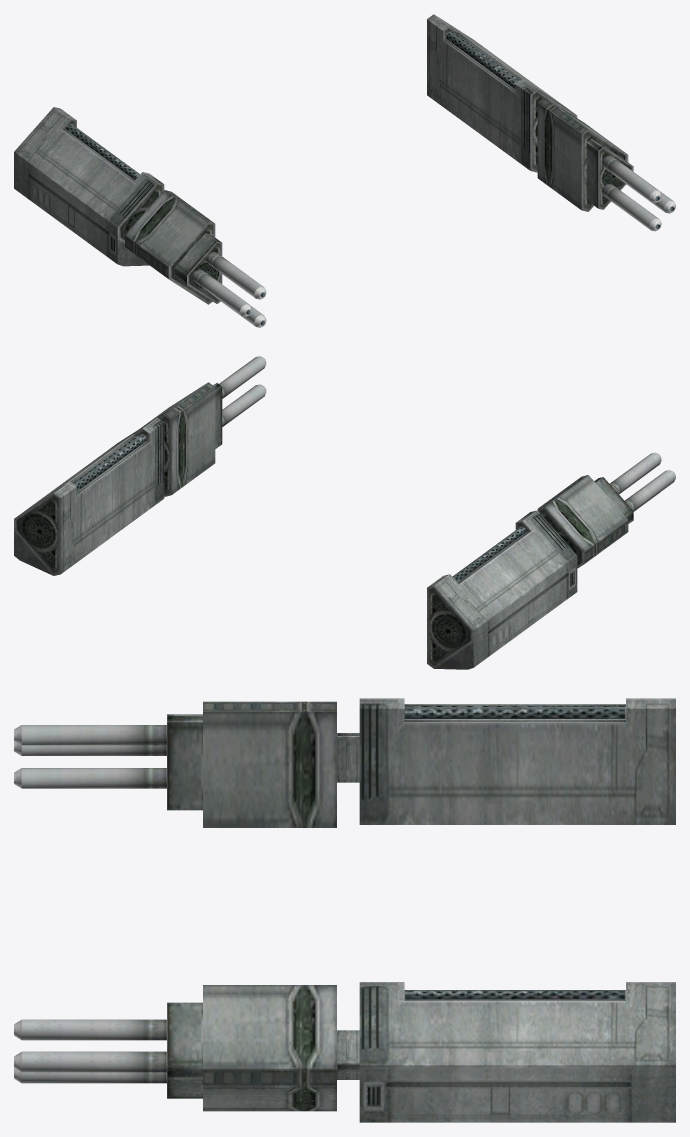
File: kse_firespray_weapon1_s04_l0.fbx
3 views of the same model, one above another, from view 1: azimuth 30°, elevation 25°; view 2: azimuth 150°, elevation 25°; view 3: azimuth 270°, elevation 25° (orthographic). The views are drawn at different scales.
Visible parts, largest first — view 1: mesh_node; view 2: mesh_node; view 3: mesh_node.
Part boxes in pixels (x1,y1,x2,y2): mesh_node: [14, 14, 675, 327]; mesh_node: [14, 356, 675, 669]; mesh_node: [14, 698, 675, 1122].
Size of the model in its own units: 4.16 by 0.732 by 3.39.
